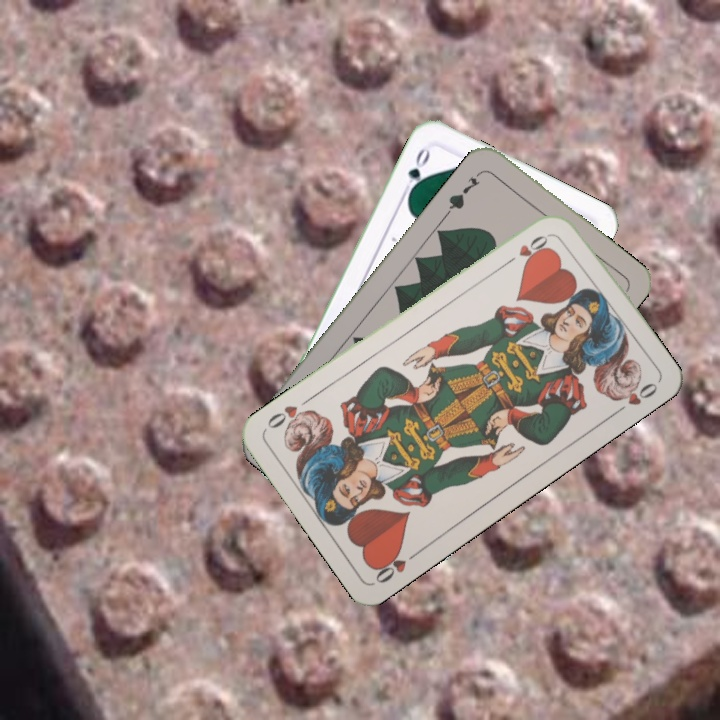G7: (443, 167, 486, 216)
GO: (399, 144, 433, 198)
HO: (370, 546, 423, 586), (501, 229, 554, 268)
